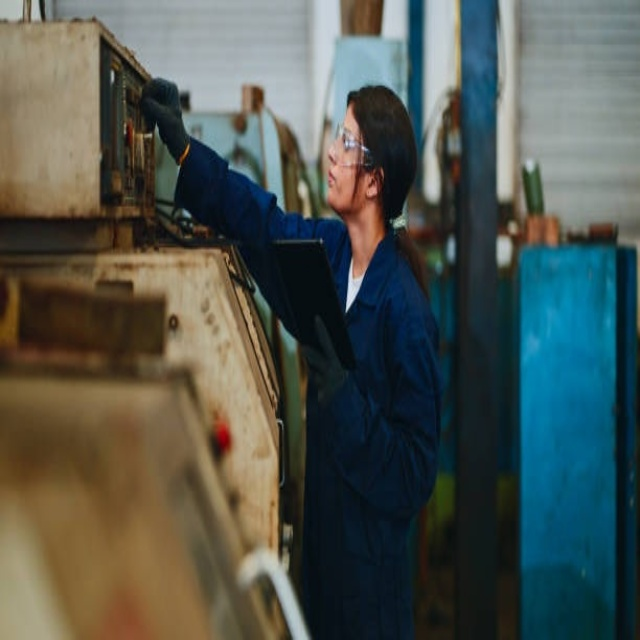Gafas: (333, 123, 376, 170)
Guantes: (140, 71, 192, 158)
Sin_mascara: (325, 154, 352, 210)
